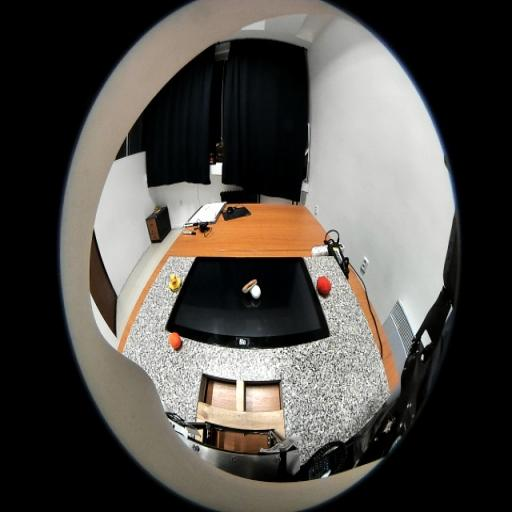Duck: (170, 275, 182, 292)
Mushroom: (241, 279, 261, 299)
Orange: (169, 332, 182, 350)
Tomato: (317, 276, 331, 296)
